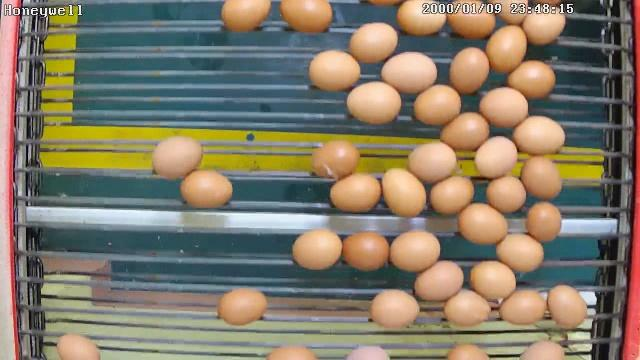egg: (379, 50, 438, 96), (344, 80, 402, 126), (381, 165, 428, 221), (512, 112, 566, 160), (150, 135, 205, 182), (387, 228, 442, 274), (178, 168, 235, 212), (290, 226, 344, 272), (456, 200, 508, 246), (307, 48, 361, 92), (412, 258, 466, 302), (327, 172, 381, 216), (506, 57, 557, 103), (405, 140, 458, 184), (438, 111, 492, 154), (348, 21, 398, 67), (484, 23, 528, 75), (478, 86, 530, 130), (308, 140, 362, 182), (518, 152, 564, 201), (412, 83, 462, 127), (340, 228, 390, 272), (495, 230, 545, 274), (216, 284, 268, 326), (448, 46, 491, 96), (370, 287, 420, 330), (473, 134, 519, 180), (546, 281, 590, 329), (469, 259, 518, 302), (444, 0, 494, 42), (278, 0, 334, 37), (442, 288, 492, 329), (428, 173, 475, 216), (497, 288, 548, 326), (522, 4, 566, 48), (484, 172, 528, 216), (396, 0, 446, 38), (524, 198, 564, 244)
